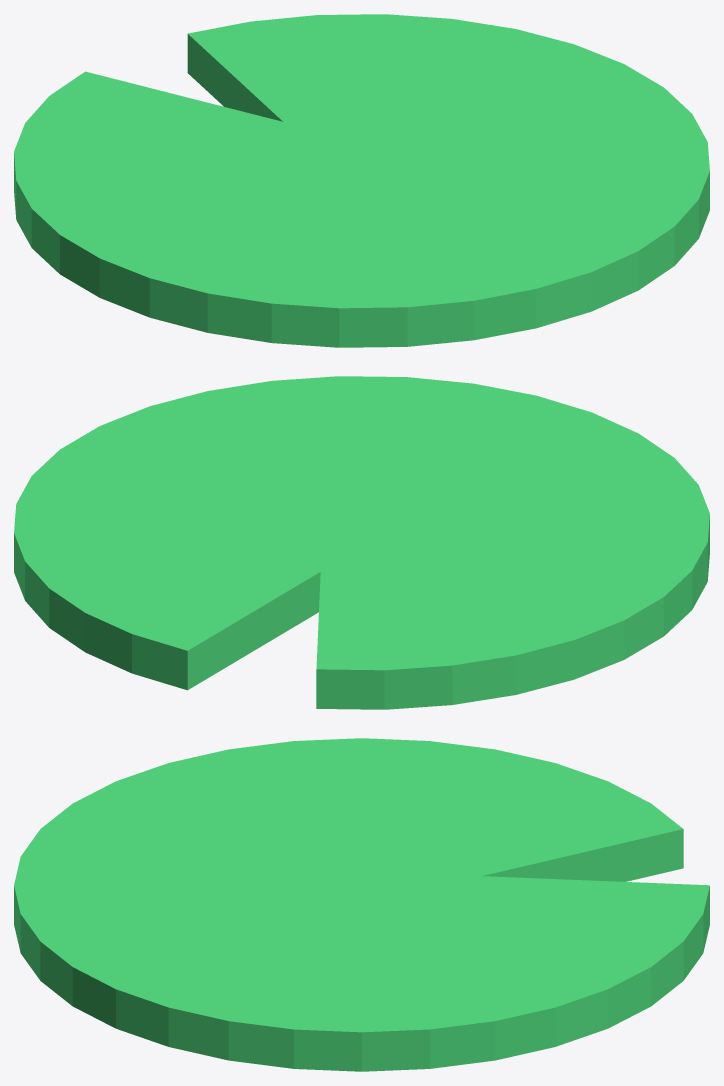
File: LilyPad.fbx
The picture shows the model from 3 angles, top to bottom: view 1: azimuth 30°, elevation 25°; view 2: azimuth 150°, elevation 25°; view 3: azimuth 270°, elevation 25°; orthographic projection.
Visible parts, largest first — view 1: Circle; view 2: Circle; view 3: Circle.
Boxes of the visible parts, x1=… form: Circle: x1=14, y1=14, x2=709, y2=347; Circle: x1=14, y1=376, x2=709, y2=709; Circle: x1=14, y1=738, x2=709, y2=1071.
Bounding box in the file's own units: 200 × 12.51 × 200.
